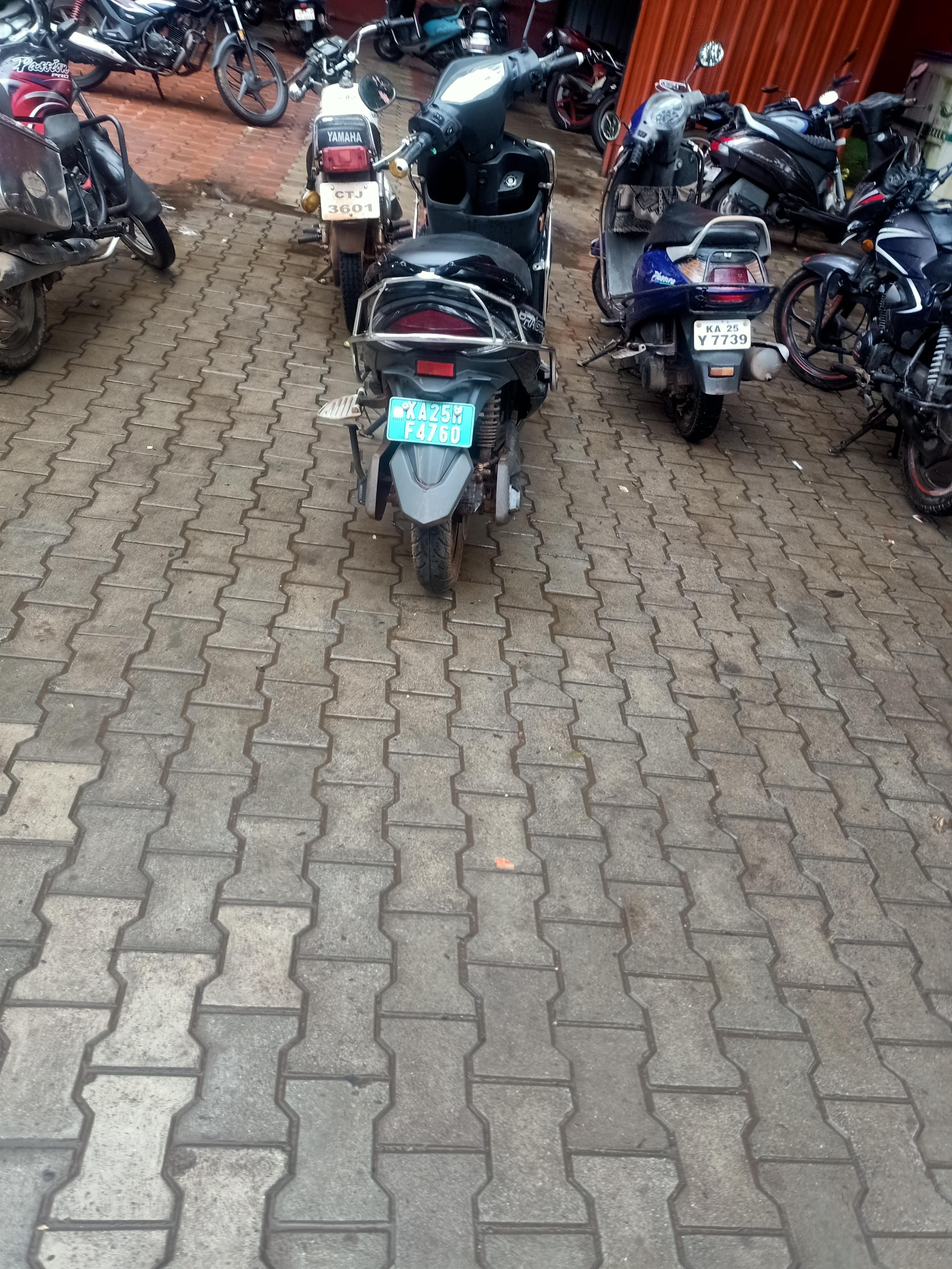green license plate: (381, 391, 479, 445)
